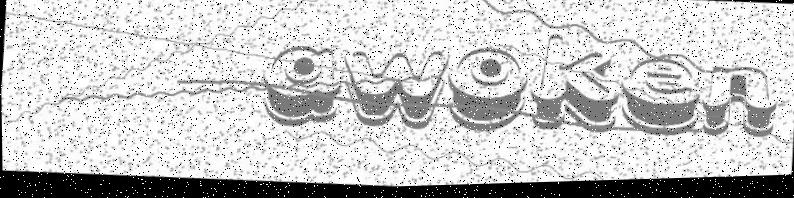a: (259, 43, 346, 134)
e: (616, 59, 703, 143)
k: (526, 34, 623, 141)
n: (698, 67, 780, 145)
o: (442, 46, 532, 141)
w: (338, 47, 448, 137)
